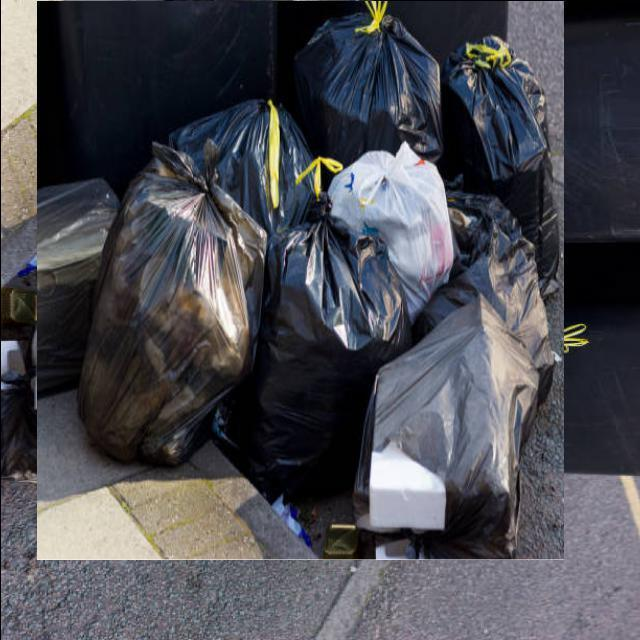Trashbag: (80, 190, 265, 464), (247, 232, 404, 496), (428, 198, 554, 382), (168, 83, 312, 241), (291, 18, 444, 159), (435, 36, 555, 192)
